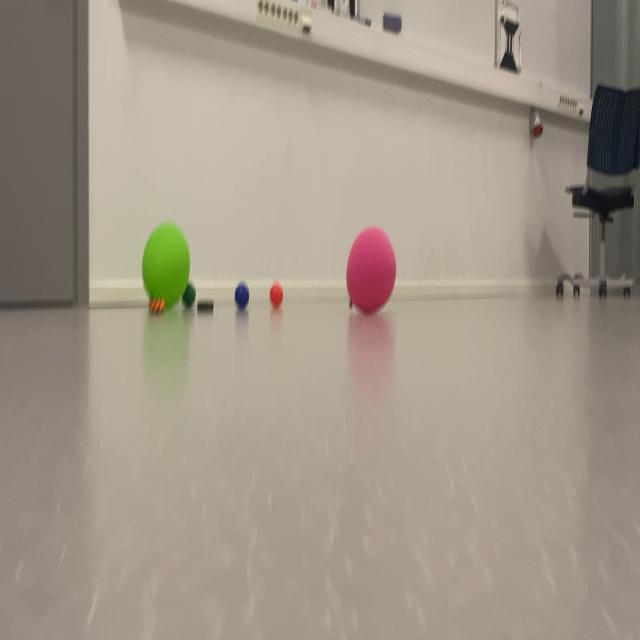7: (262, 243, 300, 362)
green ball: (218, 246, 256, 348)
red ball: (177, 276, 202, 314)
